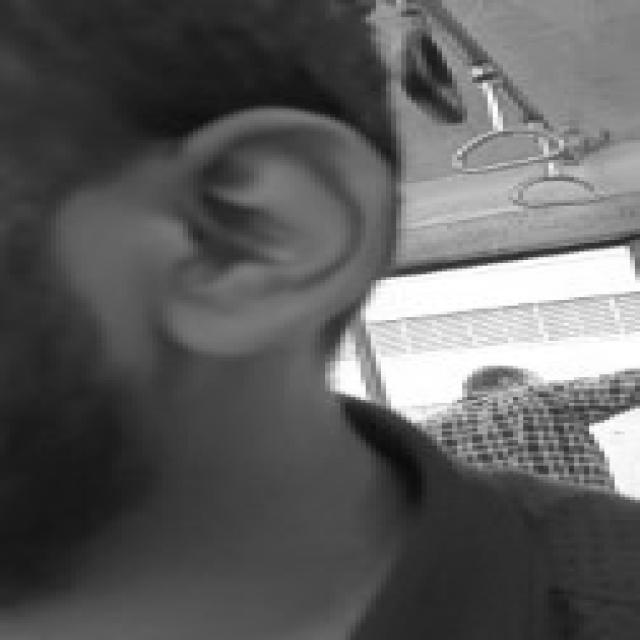ear: (163, 106, 381, 351)
